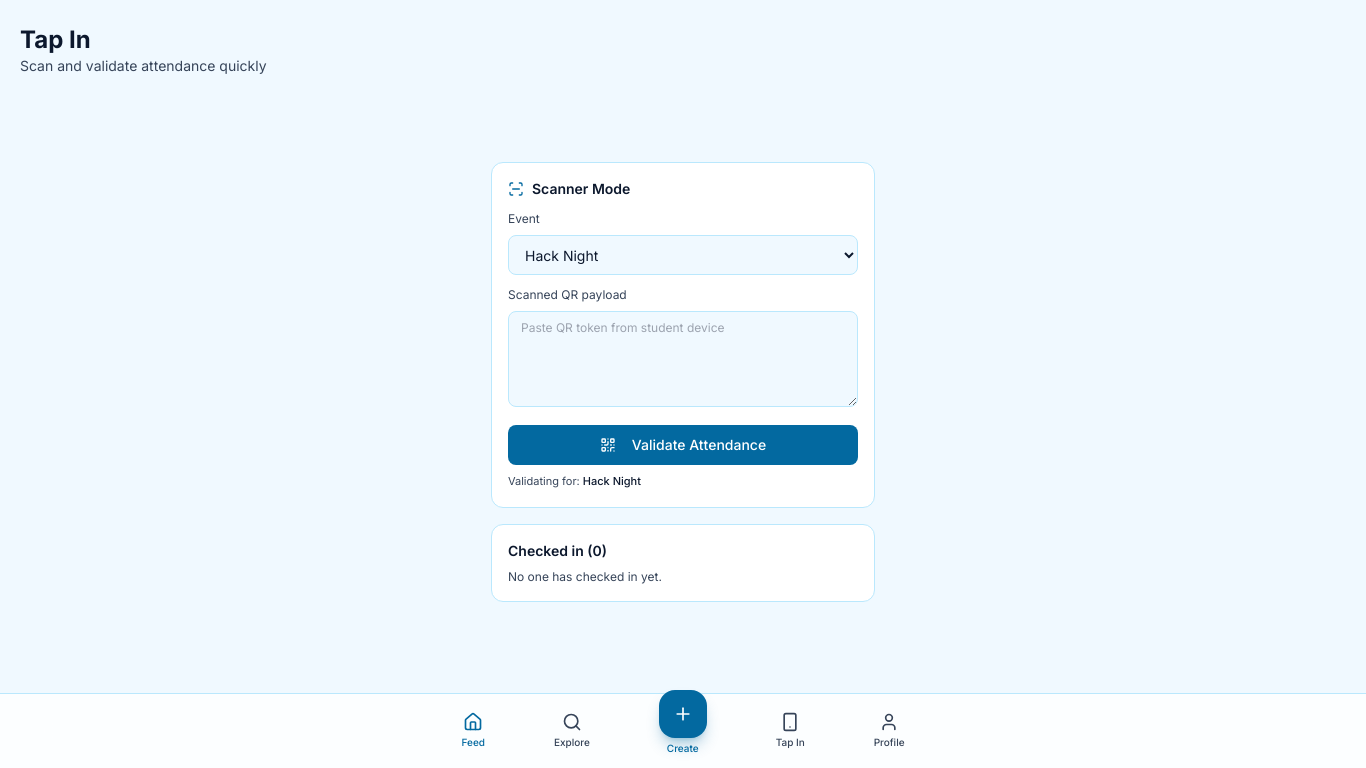
Test: check-in through the server › lets an officer redeem a student's code, shows who checked in, and explains a refused code
This screenshot has width=1366, height=768.
Expected: the text "No one has checked in yet." is shown, [508,569,662,584]
In the text box named "Scanned QR payload": [683, 359] box [508,311,858,407], type "good.code"
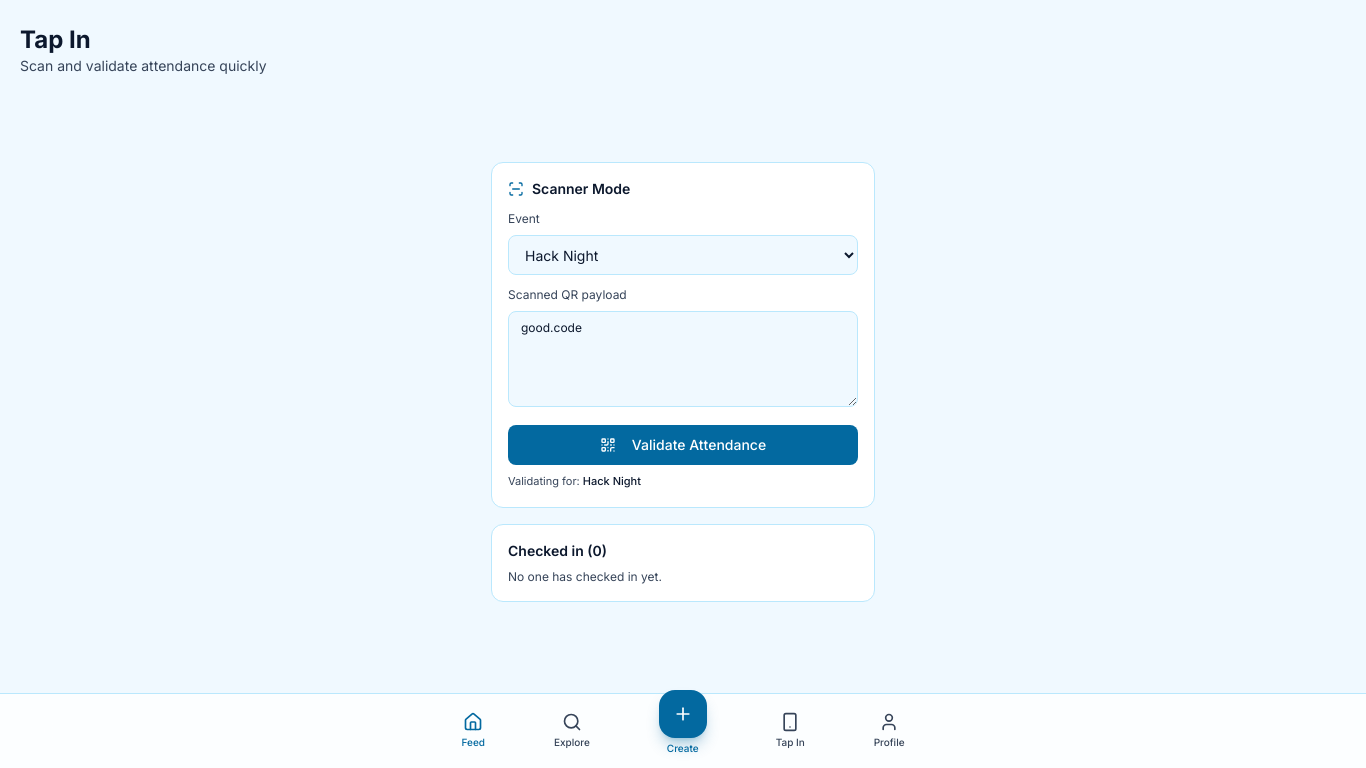
Click the button "Validate Attendance": [683, 445] box [508,425,858,465]
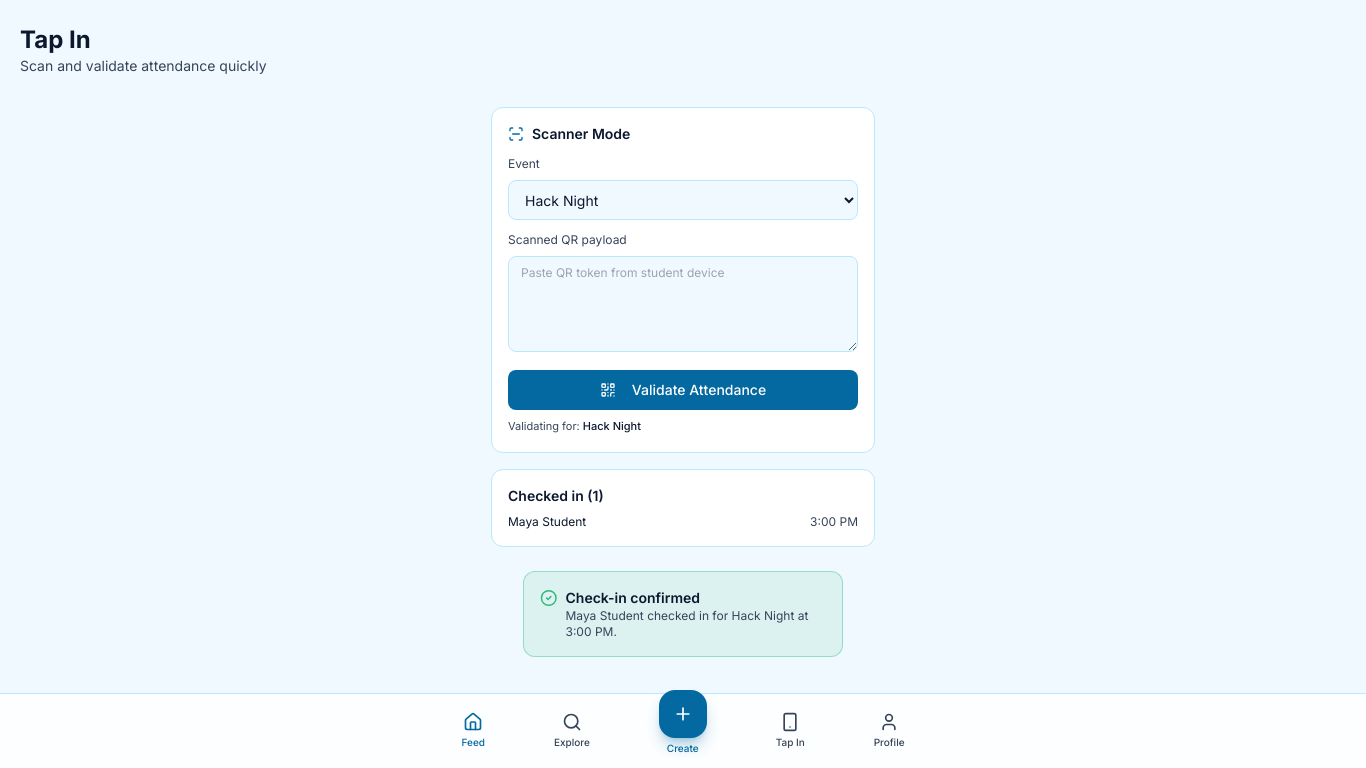
Expected: the text "Maya Student checked in for Hack Night at 3:00 PM." is shown, [566,608,826,640]
Expected: the list named "Checked-in attendees" shows "Maya Student", [508,514,586,529]
Expected: the text box named "Scanned QR payload" is empty
In the text box named "Scanned QR payload": [683, 304] box [508,256,858,352], type "replayed.code"
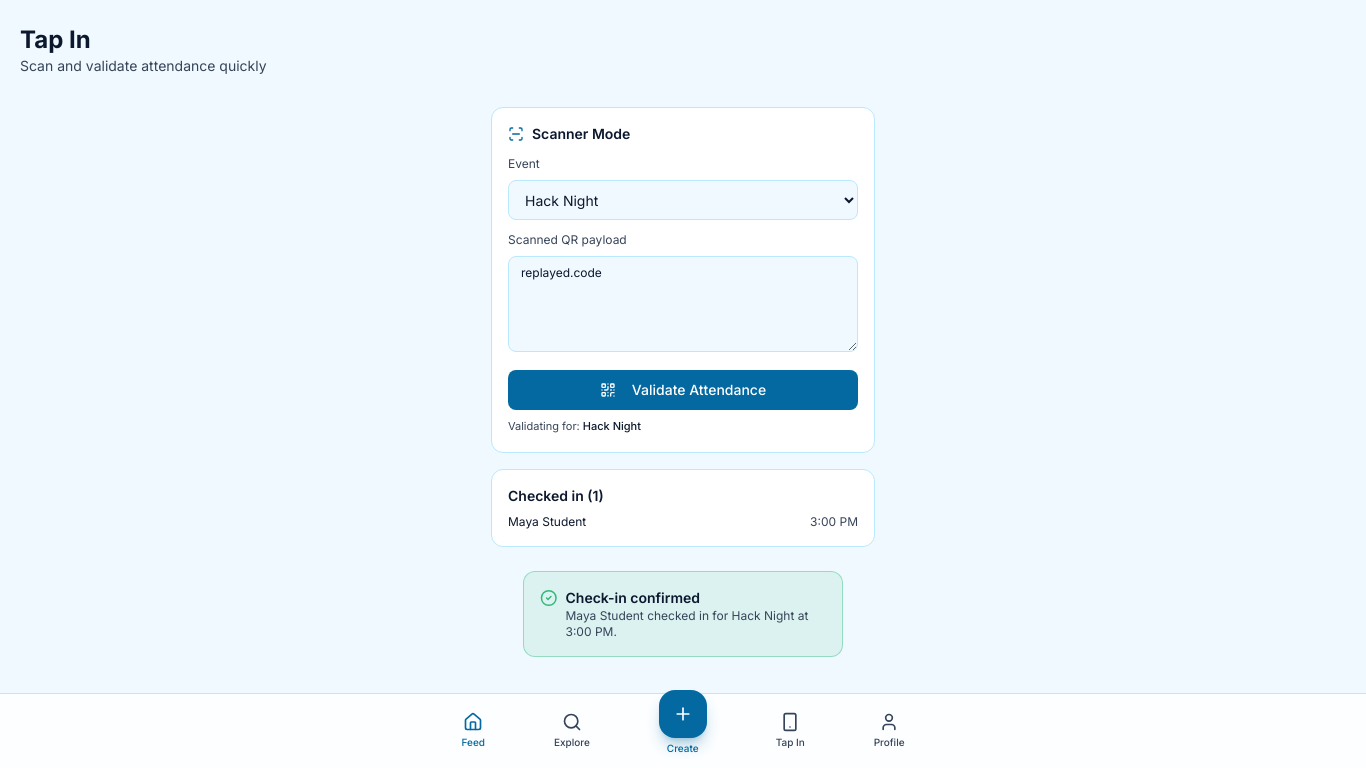
Click the button "Validate Attendance": [683, 390] box [508,370,858,410]
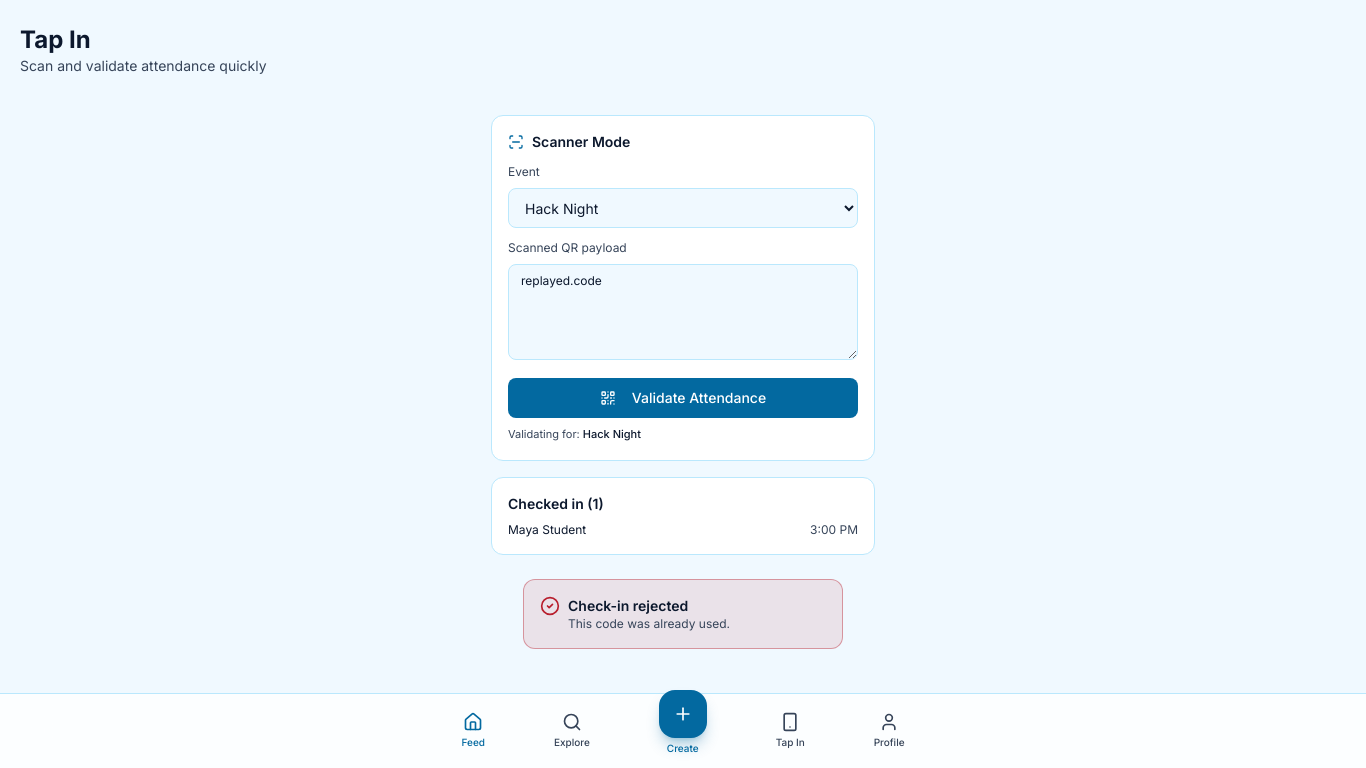
Expected: the text "This code was already used." is shown, [568,616,730,632]
